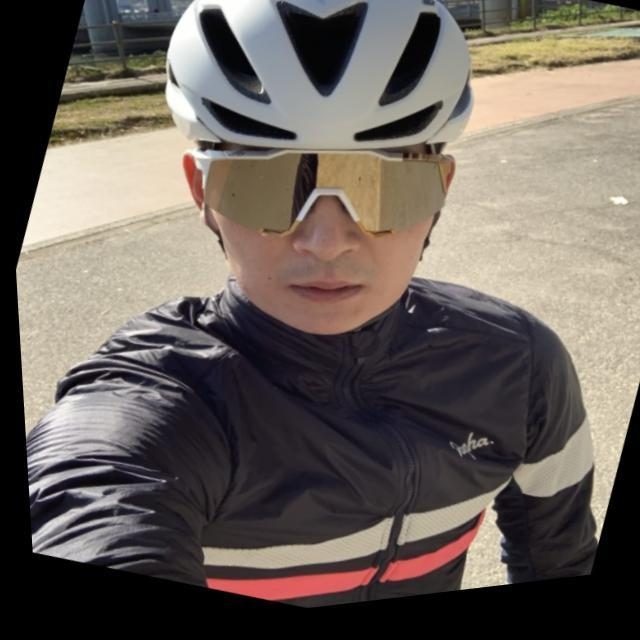Helmet: (152, 0, 485, 343)
